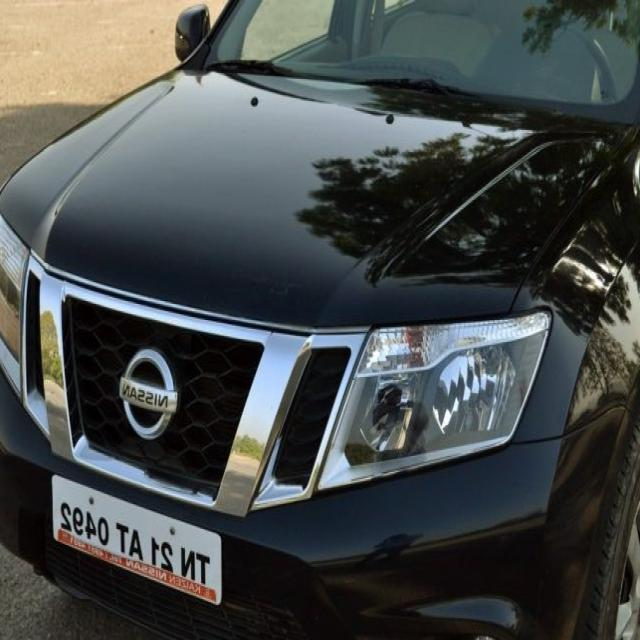number-plate: (44, 461, 231, 633)
